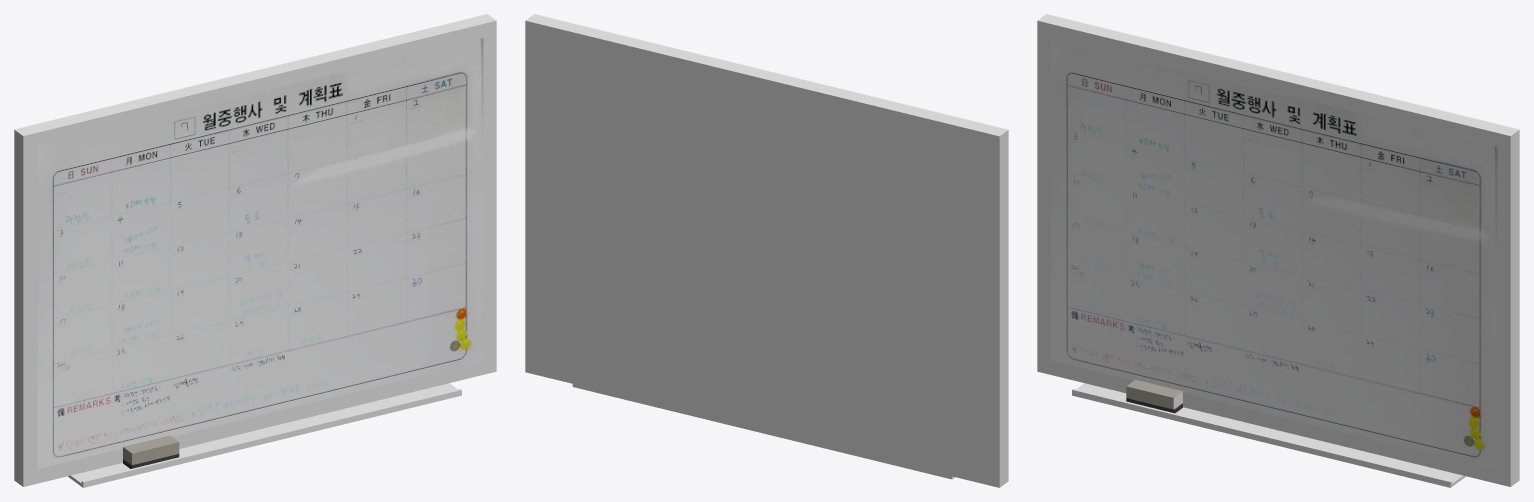
The model's file is LC_3156_event_schedule_LOD1.fbx.
The picture shows the model from 3 angles, left to right: view 1: azimuth 30°, elevation 25°; view 2: azimuth 150°, elevation 25°; view 3: azimuth 330°, elevation 25°; orthographic projection.
Visible parts, largest first — view 1: LC_3156_es_LOD1; view 2: LC_3156_es_LOD1; view 3: LC_3156_es_LOD1.
Boxes of the visible parts, x1,y1,x2,y2 form: LC_3156_es_LOD1: (14, 14, 496, 487); LC_3156_es_LOD1: (525, 14, 1008, 487); LC_3156_es_LOD1: (1037, 14, 1519, 487).
Size of the model in its own units: 120 by 85.76 by 9.56.
1 material, 1 textured.
